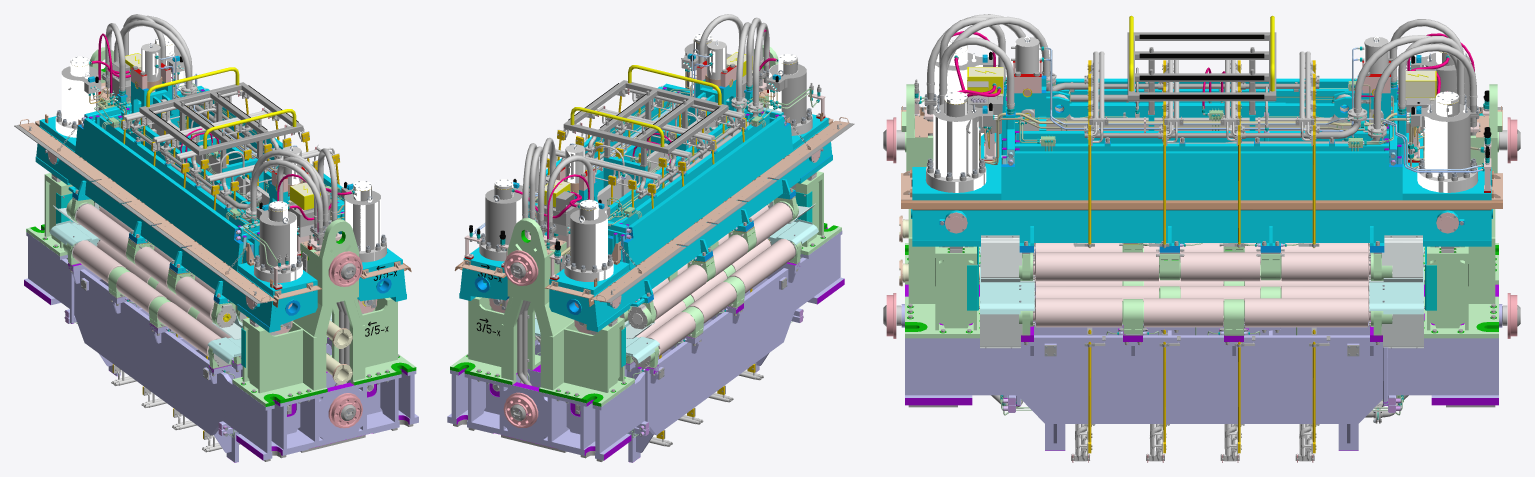
3 views of the same model, side by side, from view 1: azimuth 30°, elevation 25°; view 2: azimuth 150°, elevation 25°; view 3: azimuth 270°, elevation 25° (orthographic). The views are drawn at different scales.
Visible parts, largest first — view 1: Model, PRESSURE_CYLINDER_3, PRESSURE_CYLINDER_1, PRESSURE_CYLINDER_4; view 2: Model, PRESSURE_CYLINDER_3, PRESSURE_CYLINDER_4; view 3: Model, PRESSURE_CYLINDER_1, PRESSURE_CYLINDER_2, PRESSURE_CYLINDER_4.
Boxes of the visible parts, bbox=[...] form: Model: bbox=[14, 14, 418, 462]; PRESSURE_CYLINDER_3: bbox=[55, 56, 98, 137]; PRESSURE_CYLINDER_1: bbox=[345, 180, 380, 260]; PRESSURE_CYLINDER_4: bbox=[268, 201, 302, 281]; Model: bbox=[447, 14, 854, 462]; PRESSURE_CYLINDER_3: bbox=[579, 199, 613, 280]; PRESSURE_CYLINDER_4: bbox=[769, 53, 797, 111]; Model: bbox=[883, 14, 1520, 462]; PRESSURE_CYLINDER_1: bbox=[933, 91, 986, 192]; PRESSURE_CYLINDER_2: bbox=[1417, 91, 1467, 192]; PRESSURE_CYLINDER_4: bbox=[934, 41, 983, 135].
Size of what is drawn, in the model's own units: 2.08 by 3.66 by 5.37.
